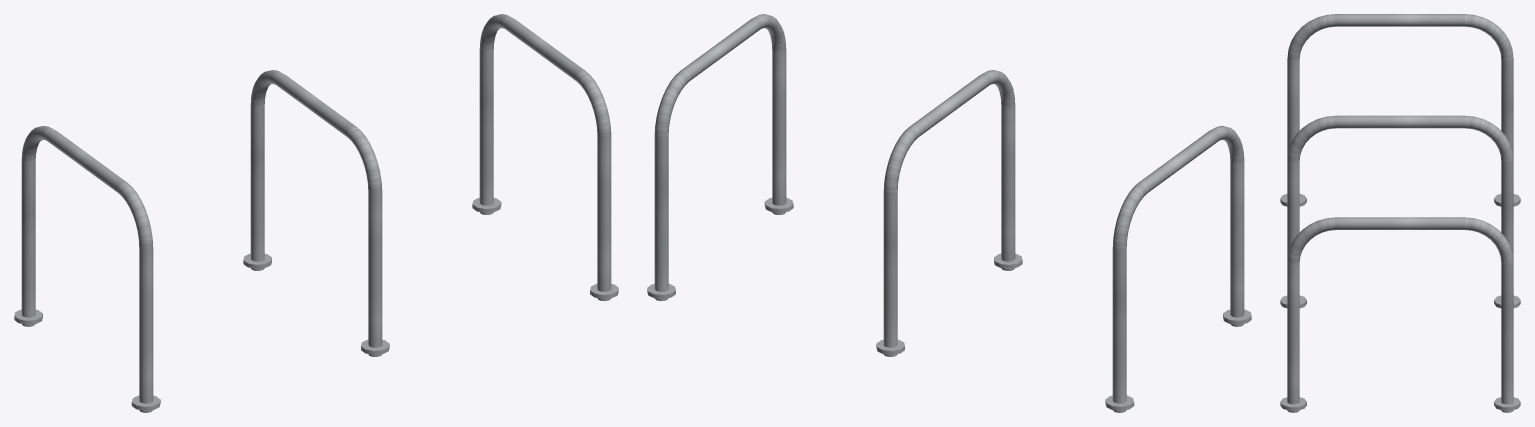
The model's file is arceaux_velo_lod0.glb.
3 renders of one model, left to right at view 1: azimuth 30°, elevation 25°; view 2: azimuth 150°, elevation 25°; view 3: azimuth 270°, elevation 25°, orthographic. The views are drawn at different scales.
Parts seen in each view (by area): view 1: arceaux_velo; view 2: arceaux_velo; view 3: arceaux_velo.
Part boxes in pixels (box(x1,y1,x2,y2)): arceaux_velo: box(14, 14, 618, 412); arceaux_velo: box(647, 14, 1251, 412); arceaux_velo: box(1280, 14, 1520, 412).
Size of the model in its own units: 1.9 by 0.7929 by 0.9.
Materials: 1 (1 with a texture image).
